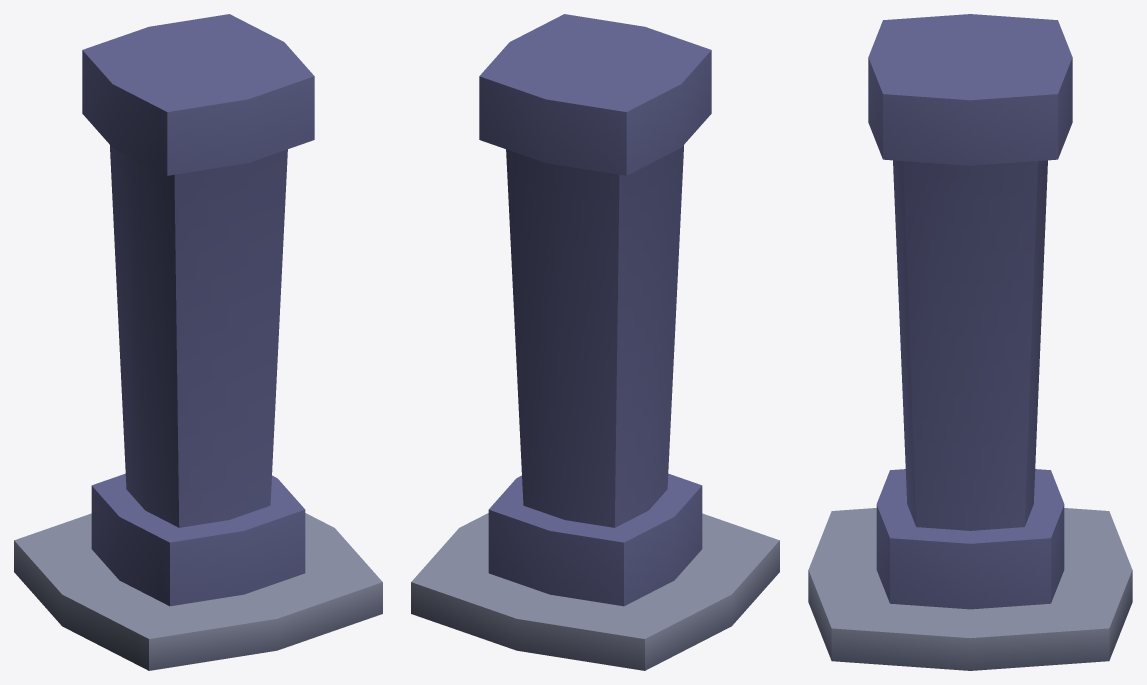
The model's file is template-detail.gltf.
The picture shows the model from 3 angles, left to right: view 1: azimuth 30°, elevation 25°; view 2: azimuth 150°, elevation 25°; view 3: azimuth 270°, elevation 25°; orthographic projection. The views are drawn at different scales.
Visible parts, largest first — view 1: template-detail; view 2: template-detail; view 3: template-detail.
Boxes of the visible parts, <box> form: template-detail: <box>14,14,382,670</box>; template-detail: <box>411,14,779,670</box>; template-detail: <box>808,14,1132,670</box>.
Bounding box in the file's own units: 1.79 × 3.33 × 1.79.
1 material, 1 textured.
